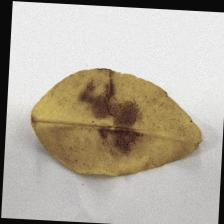black spot: (61, 68, 169, 155)
